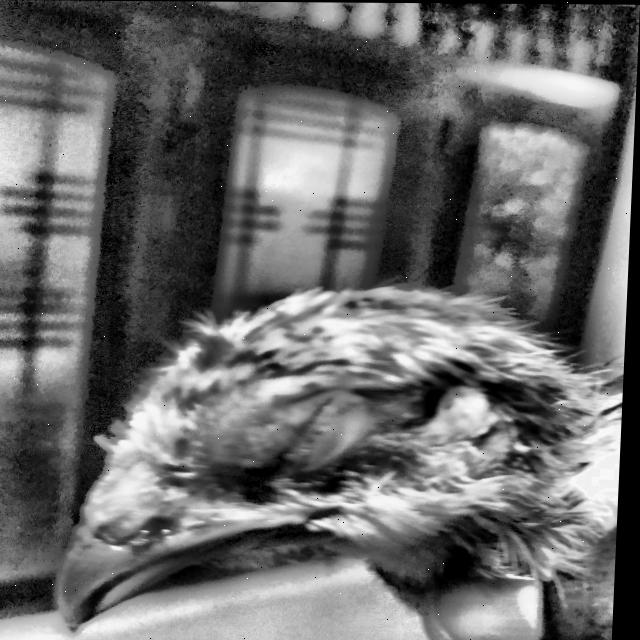Coryza: (0, 249, 579, 640)
